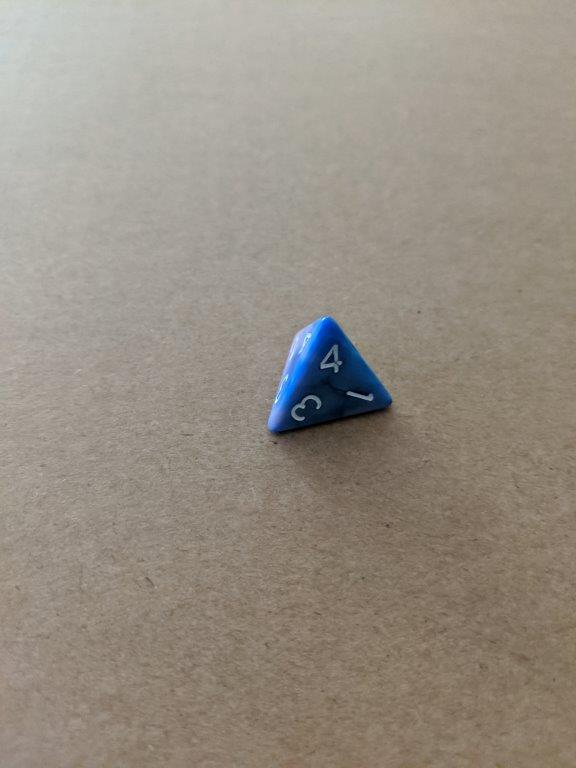d4-4: (265, 314, 397, 440)
